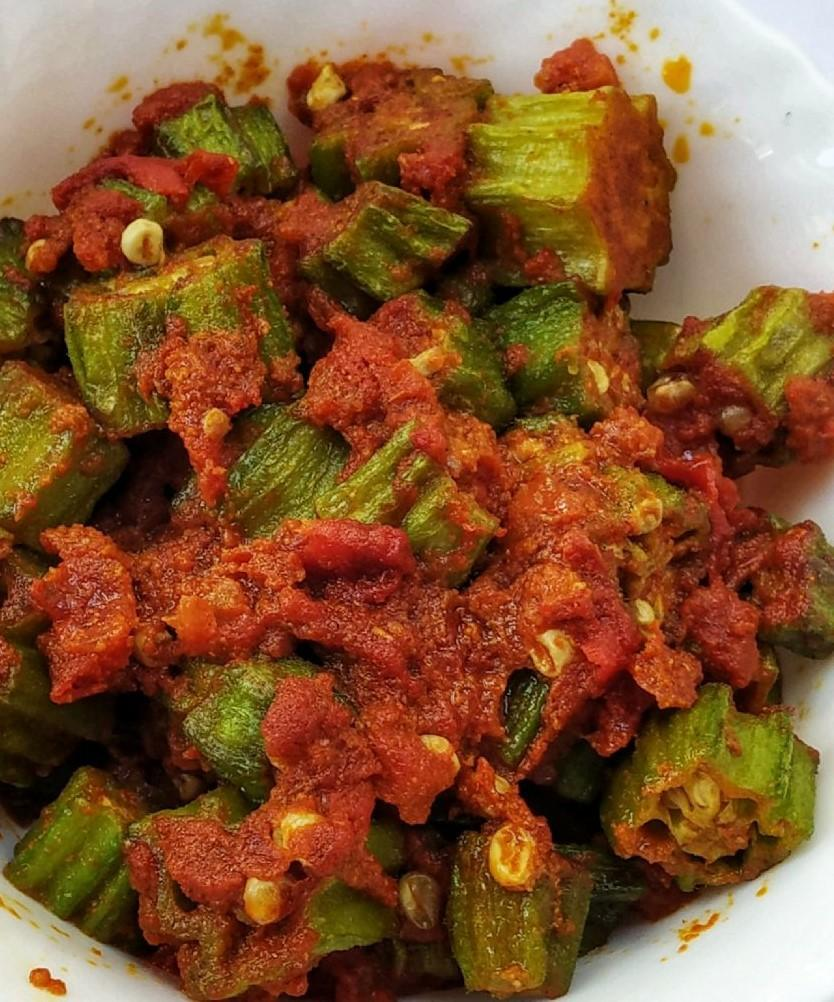BhindiMasala: (0, 40, 834, 1002)
